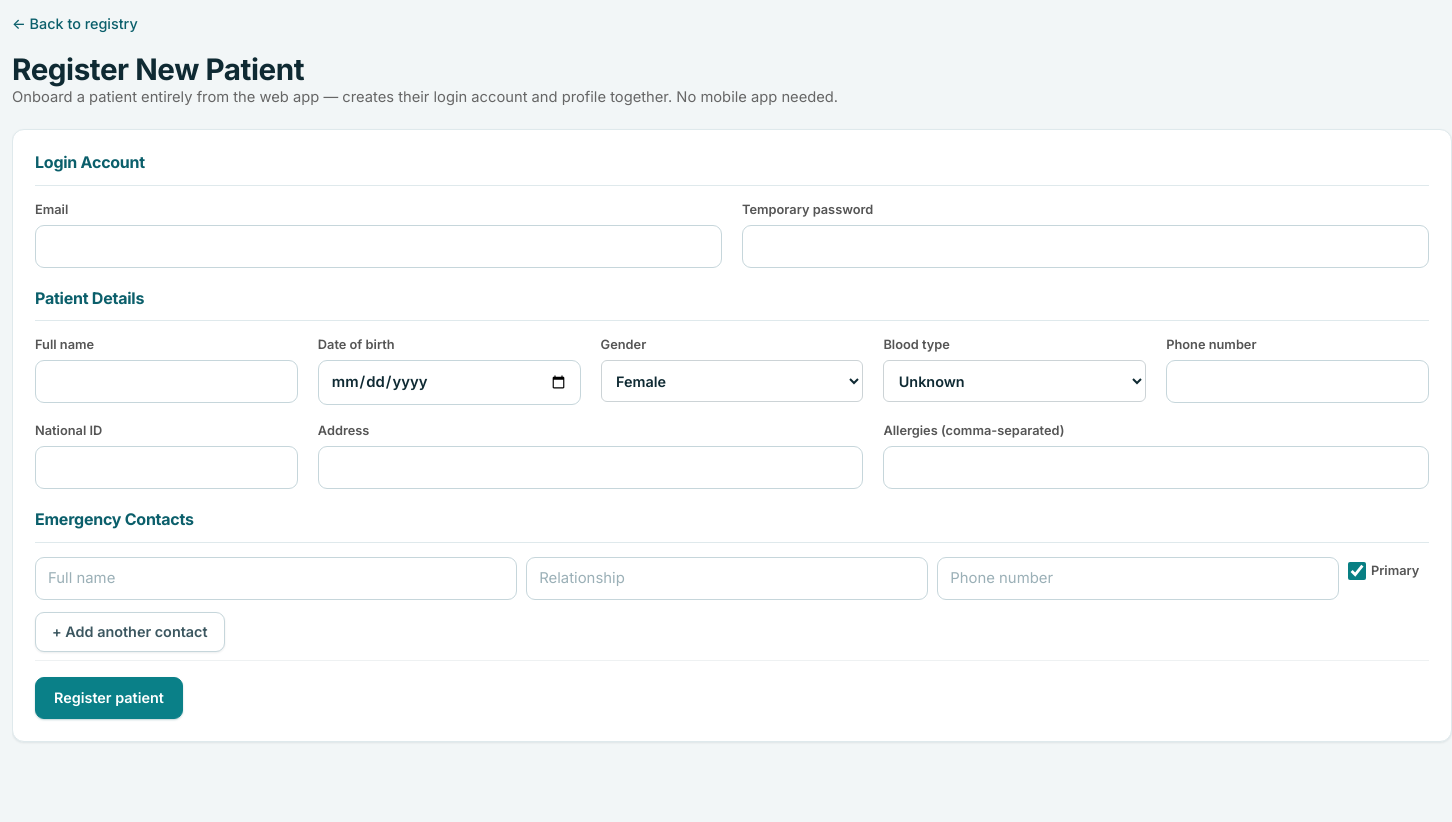
Test: RegisterPatientPage › shows a server error message when registration fails
In the field labelled "Email": (378, 246) x1=35 y1=224 x2=722 y2=268, type "new.patient@carepulse.dev"
In the field labelled "Temporary password": (1086, 246) x1=742 y1=224 x2=1429 y2=268, type "Patient@12345"
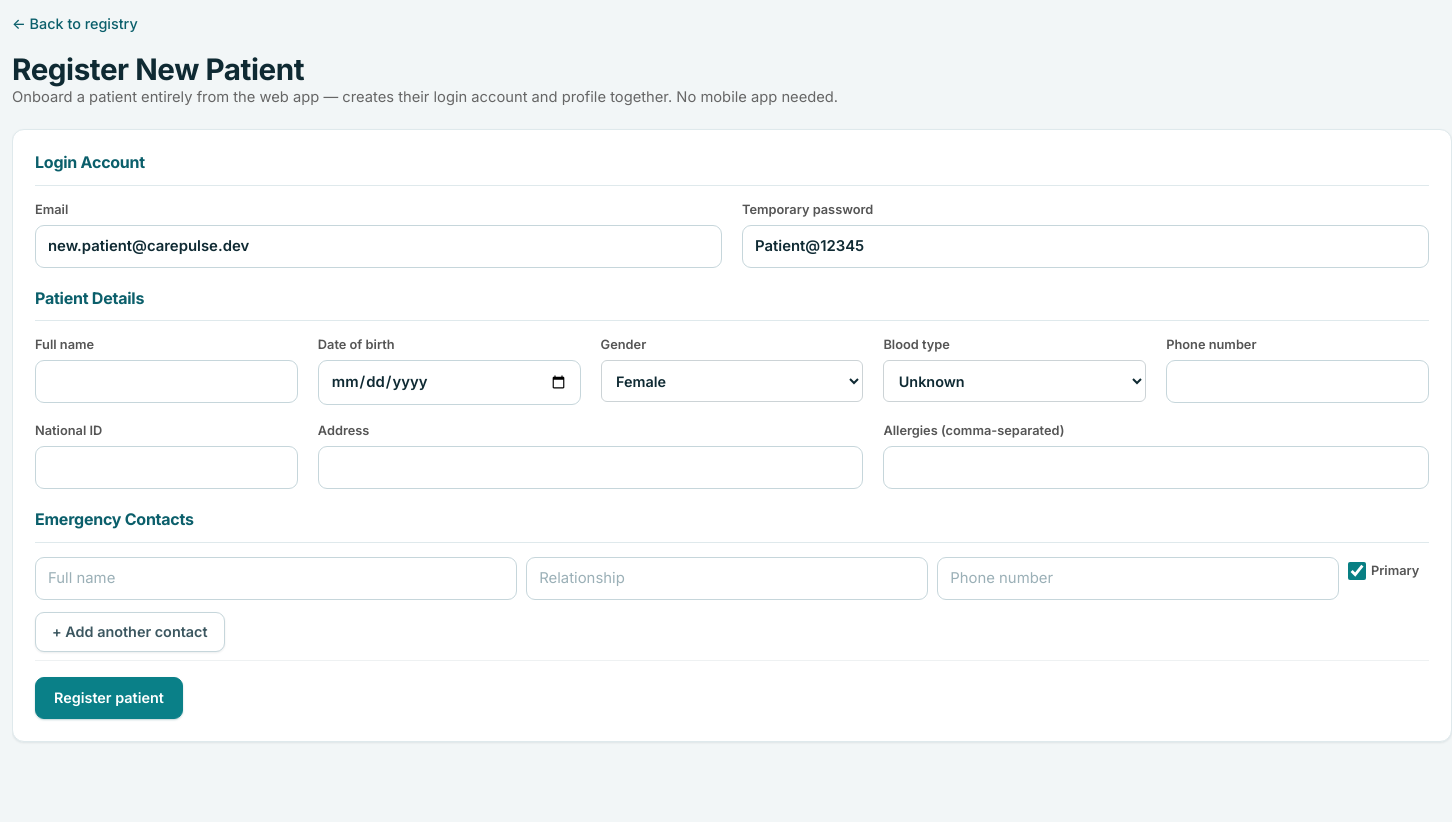
In the field labelled "Full name" below "Date of birth": (166, 382) x1=35 y1=360 x2=298 y2=403, type "Test Patient"
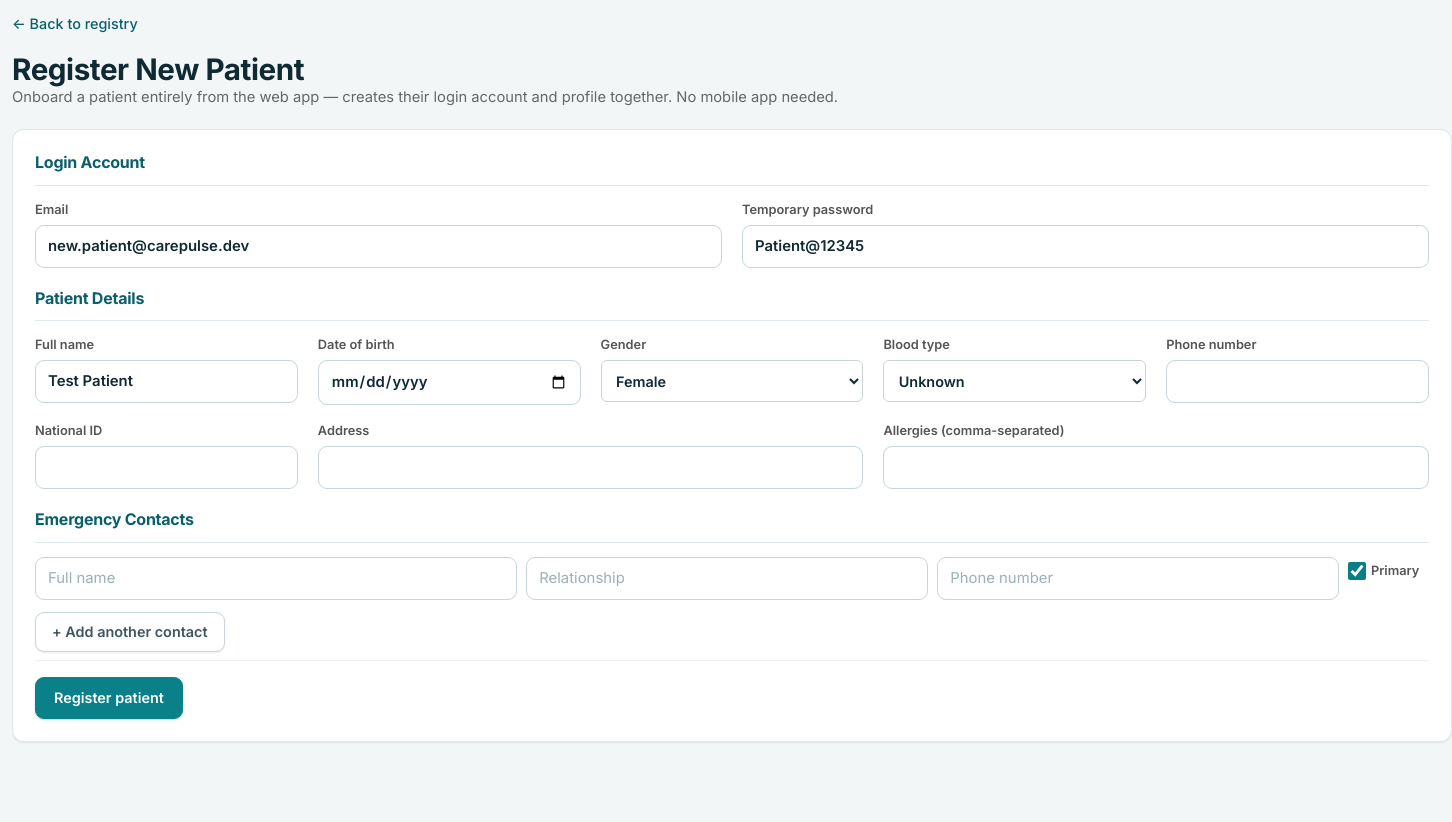
In the date field labelled "Date of birth": (449, 382) x1=318 y1=360 x2=581 y2=405, type "1990-01-01"
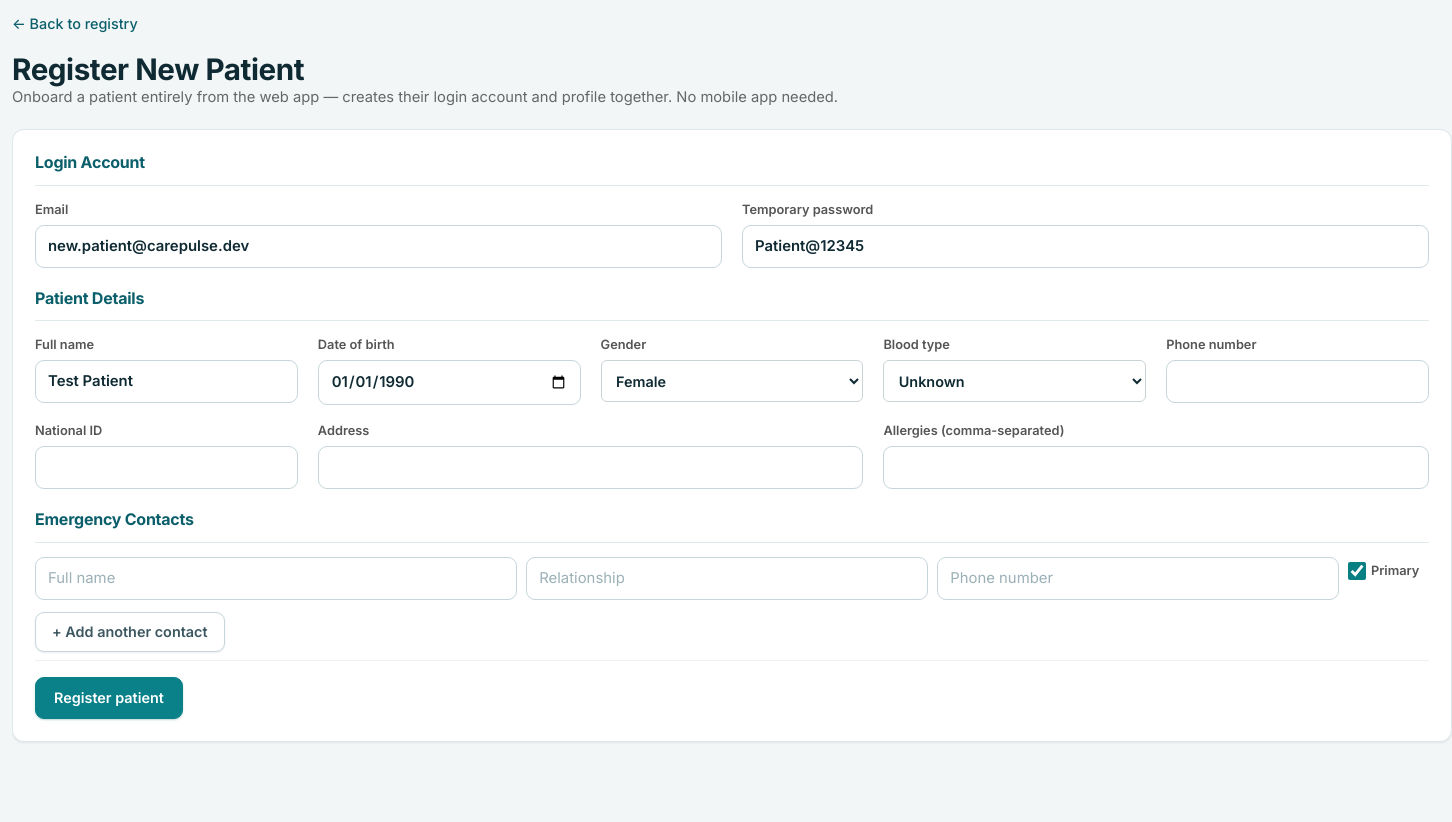
In the field labelled "Phone number" below "Blood type": (1298, 382) x1=1166 y1=360 x2=1429 y2=403, type "0771234567"
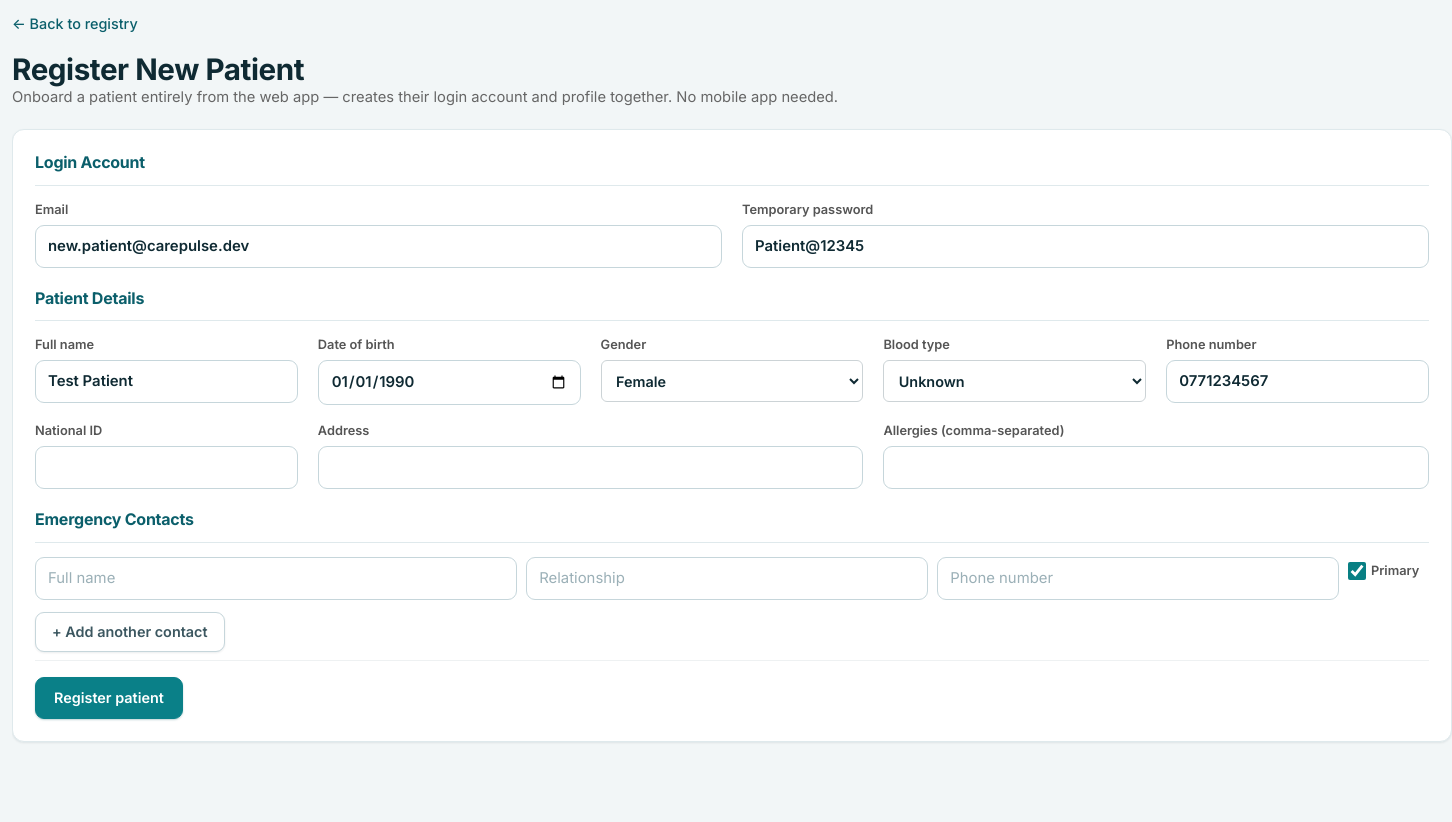
In the field labelled "National ID": (166, 467) x1=35 y1=446 x2=298 y2=489, type "199012345V"
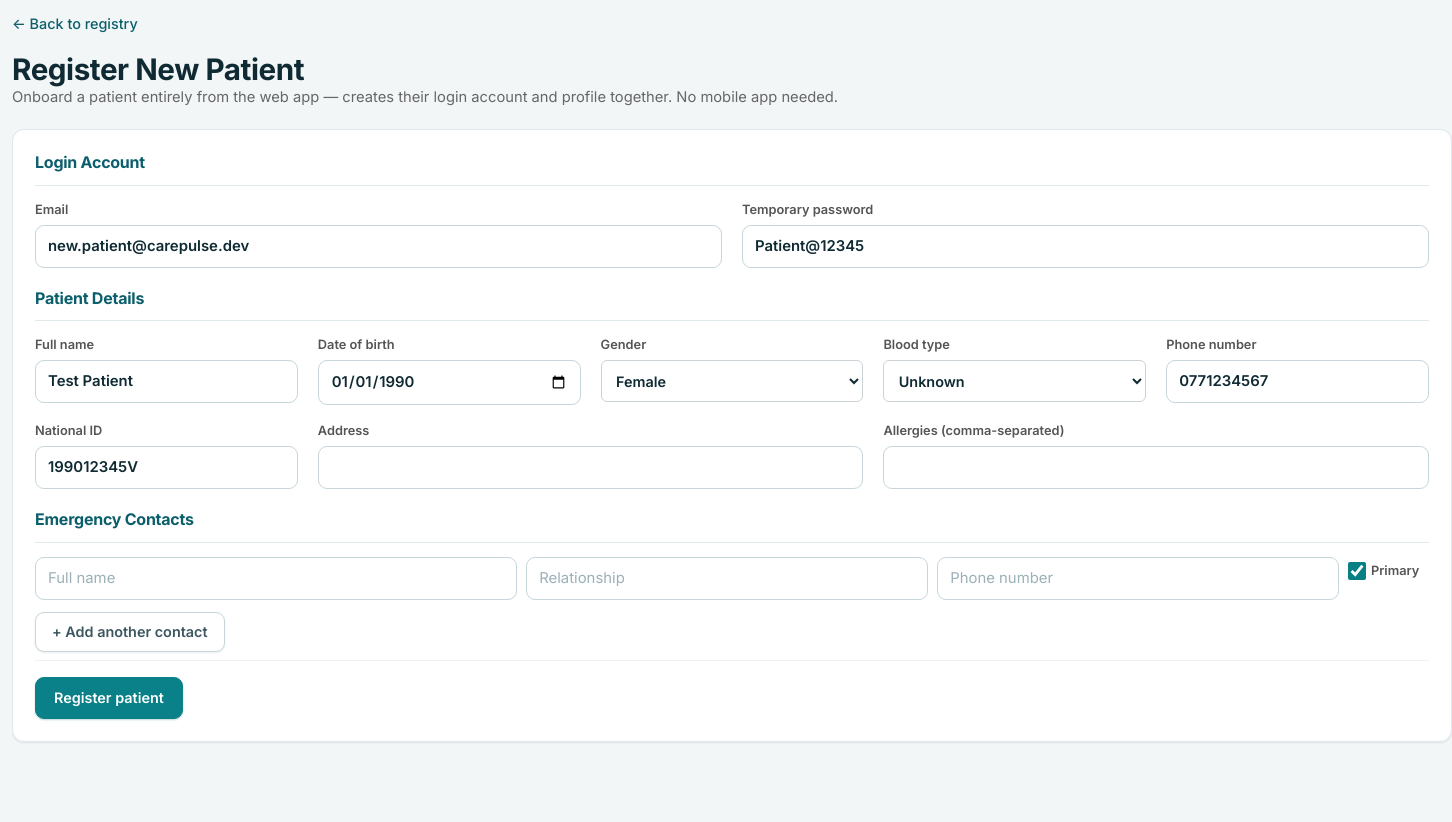
Click the button "Register patient": (109, 698) x1=35 y1=677 x2=183 y2=719
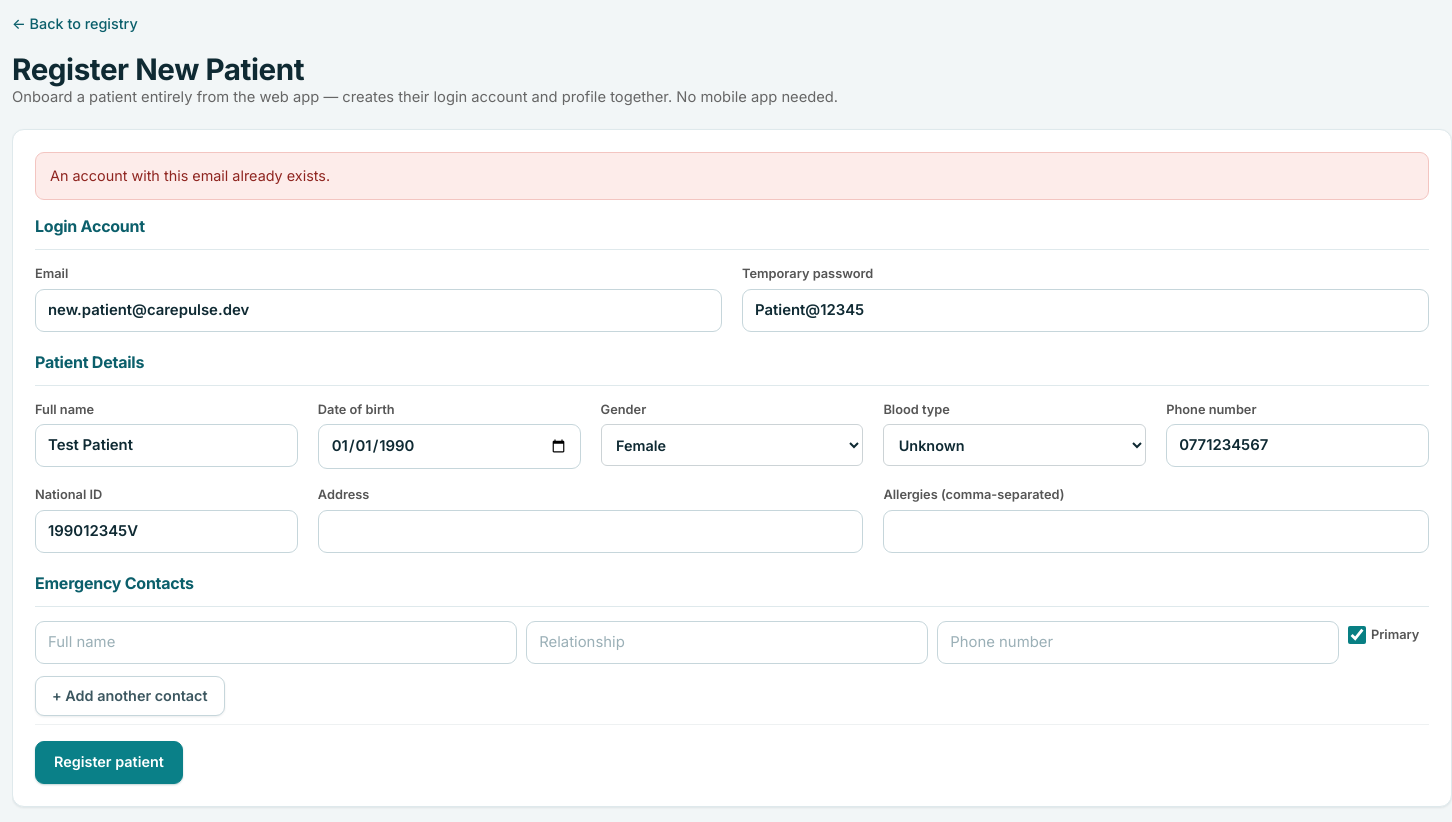
Expected: the message reads "An account with this email already exists.", x1=50 y1=167 x2=330 y2=184
